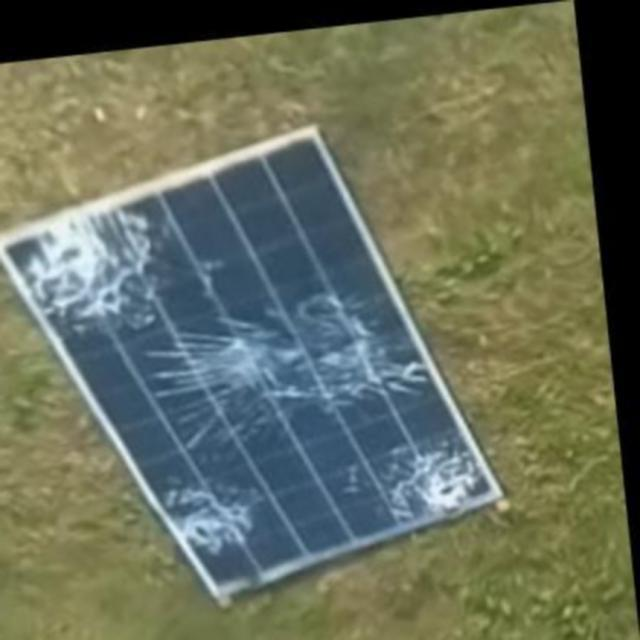cracked: (2, 122, 510, 608)
